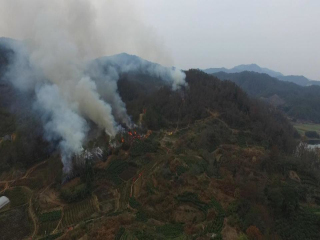smoke: (7, 11, 191, 178)
